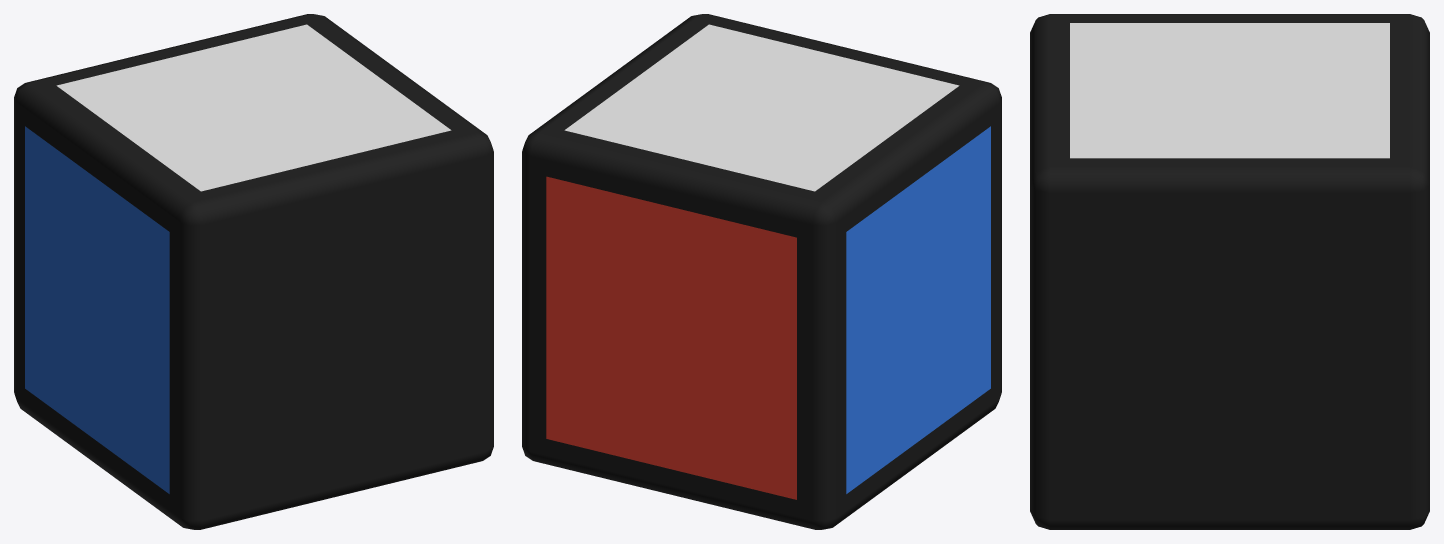
The picture shows the model from 3 angles, left to right: view 1: azimuth 30°, elevation 25°; view 2: azimuth 150°, elevation 25°; view 3: azimuth 270°, elevation 25°; orthographic projection. The views are drawn at different scales.
Visible parts, largest first — view 1: 21; view 2: 21; view 3: 21.
Boxes of the visible parts, x1,y1,x2,y2 form: 21: (14, 14, 493, 529); 21: (522, 14, 1001, 529); 21: (1030, 14, 1429, 529).
Bounding box in the file's own units: 2 × 2 × 2.
